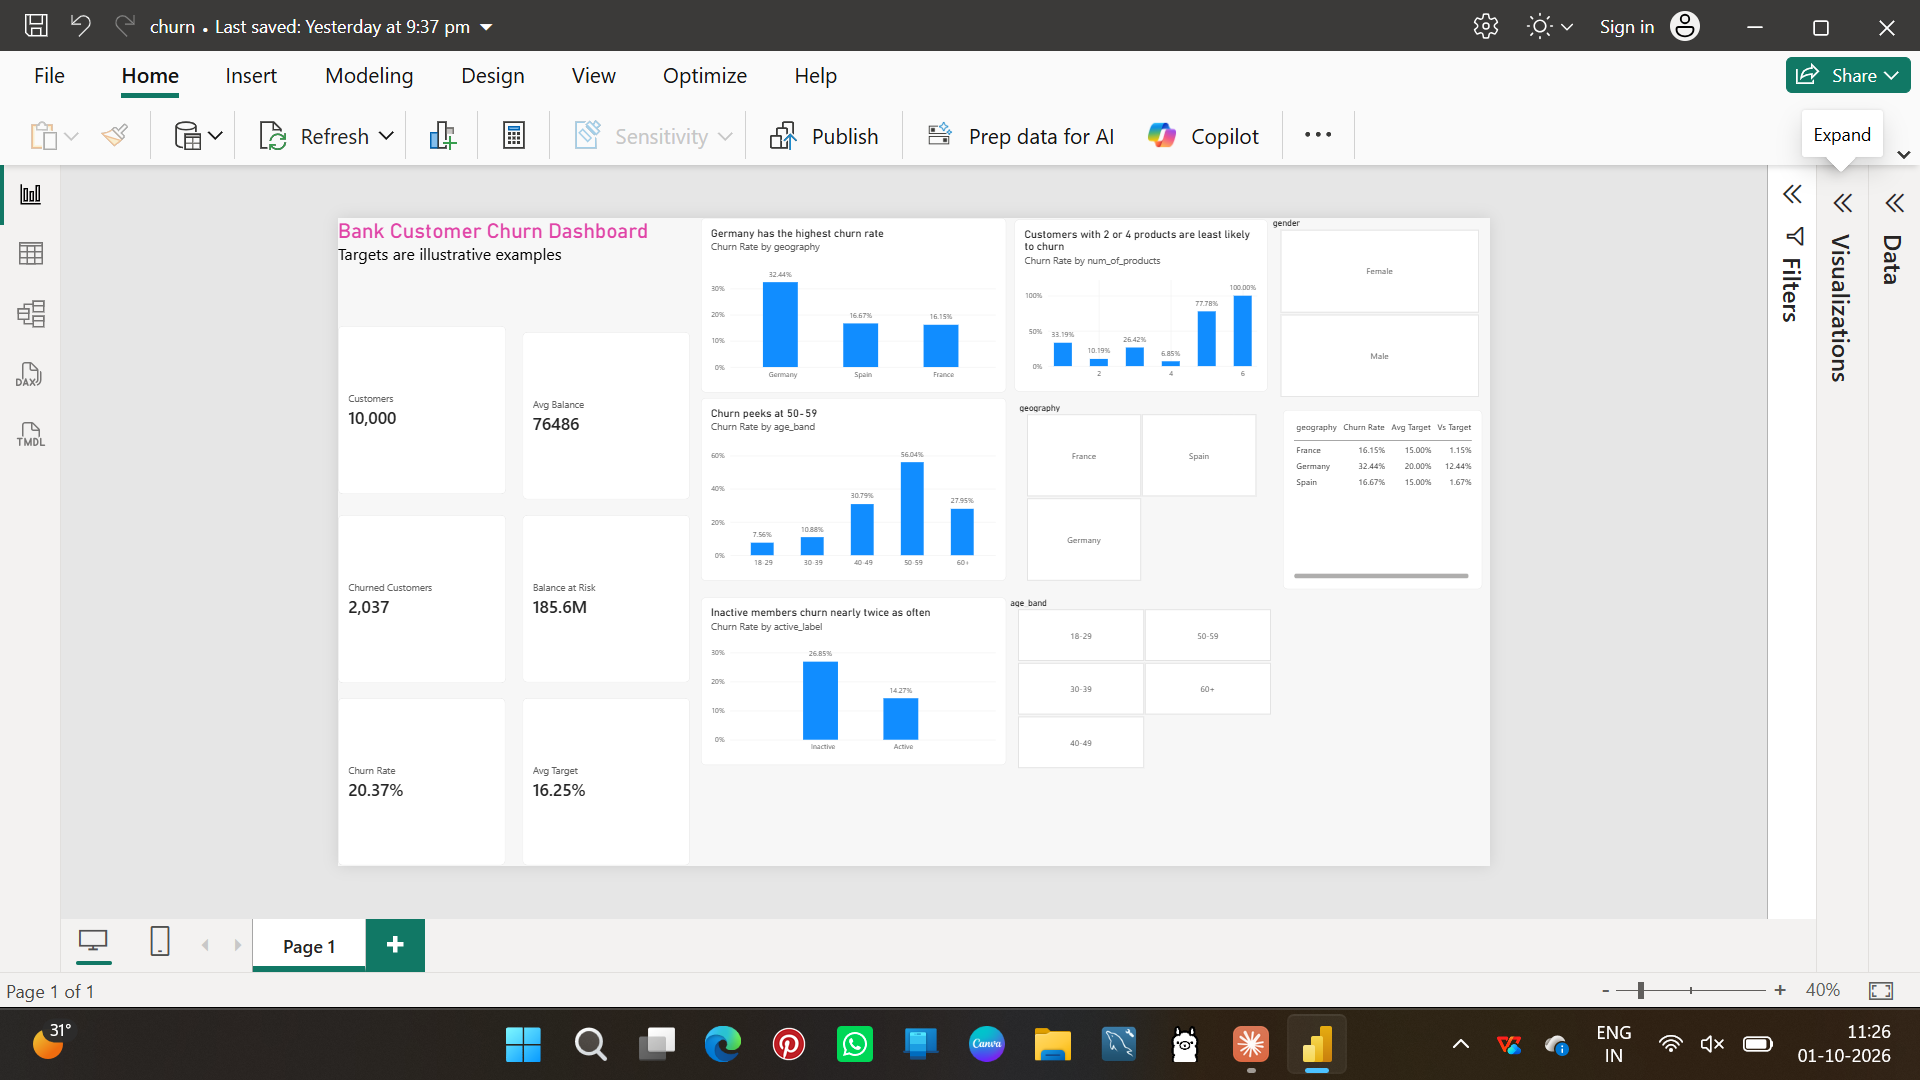

The page's visual inventory and layout, read from the dashboard file:
{"tool":"powerbi","page":{"name":"Page 1","canvas":[1920,1080],"ordinal":0},"visuals":[{"type":"cardVisual","fields":{"Data":["Churn.Customers"]},"box":[0,180,280,280],"z":0},{"type":"cardVisual","fields":{"Data":["Churn.Churned Customers"]},"box":[0,495,280,280],"z":1000},{"type":"cardVisual","fields":{"Data":["Churn.Avg Balance"]},"box":[307.5,190,279.2,279.2],"z":2000},{"type":"cardVisual","fields":{"Data":["Churn.Balance at Risk"]},"box":[307.5,495,279.2,279.2],"z":3000},{"type":"cardVisual","fields":{"Data":["Churn.Avg Target"]},"box":[307.5,800,279.2,279.2],"z":4000},{"type":"cardVisual","fields":{"Data":["Churn.Churn Rate"]},"box":[0,800,279.2,279.2],"z":5000},{"type":"clusteredColumnChart","title":"Germany has the highest churn rate","fields":{"Category":["Churn.geography"],"Y":["Churn.Churn Rate"]},"box":[604.2,0,508.8,290.7],"z":6000},{"type":"clusteredColumnChart","title":"Churn peeks at 50-59","fields":{"Category":["Churn.age_band"],"Y":["Churn.Churn Rate"]},"box":[604.2,299.8,508.8,304.4],"z":7000},{"type":"clusteredColumnChart","title":"Inactive members churn nearly twice as often","fields":{"Category":["Churn.active_label"],"Y":["Churn.Churn Rate"]},"box":[604.2,631.4,508.8,279.4],"z":8000},{"type":"clusteredColumnChart","title":"Customers with 2 or 4 products are least likely to churn","fields":{"Category":["Churn.num_of_products"],"Y":["Churn.Churn Rate"]},"box":[1128.3,1.7,421.7,286.7],"z":9000},{"type":"slicer","fields":{"Values":["Churn.geography"]},"box":[1128.3,306.7,421.7,298.3],"z":10000},{"type":"slicer","fields":{"Values":["Churn.age_band"]},"box":[1113.3,631.7,461.1,286.2],"z":10001},{"type":"slicer","fields":{"Values":["Churn.gender"]},"box":[1550,0,370,300],"z":10002},{"type":"tableEx","fields":{"Values":["Churn.geography","Churn.Churn Rate","Churn.Avg Target","Churn.Vs Target"]},"box":[1575,320,331.7,298.3],"z":10003},{"type":"textbox","title":"Bank Customer Churn Dashboard","box":[0,0,588,210],"z":10004}]}

Visuals, with their boxes on the page's 1920x1080 design canvas (x1, y1, x2, y2). These are canvas units, not pixel positions in the 1920x1080 screenshot, which may show the page scaled, cropped or inside an application window:
cardVisual - Churn.Customers: <region>0, 180, 280, 460</region>
cardVisual - Churn.Churned Customers: <region>0, 495, 280, 775</region>
cardVisual - Churn.Avg Balance: <region>308, 190, 587, 469</region>
cardVisual - Churn.Balance at Risk: <region>308, 495, 587, 774</region>
cardVisual - Churn.Avg Target: <region>308, 800, 587, 1079</region>
cardVisual - Churn.Churn Rate: <region>0, 800, 279, 1079</region>
"Germany has the highest churn rate" clusteredColumnChart: <region>604, 0, 1113, 291</region>
"Churn peeks at 50-59" clusteredColumnChart: <region>604, 300, 1113, 604</region>
"Inactive members churn nearly twice as often" clusteredColumnChart: <region>604, 631, 1113, 911</region>
"Customers with 2 or 4 products are least likely to churn" clusteredColumnChart: <region>1128, 2, 1550, 288</region>
slicer - Churn.geography: <region>1128, 307, 1550, 605</region>
slicer - Churn.age_band: <region>1113, 632, 1574, 918</region>
slicer - Churn.gender: <region>1550, 0, 1920, 300</region>
tableEx - Churn.geography x Churn.Churn Rate: <region>1575, 320, 1907, 618</region>
"Bank Customer Churn Dashboard" textbox: <region>0, 0, 588, 210</region>
